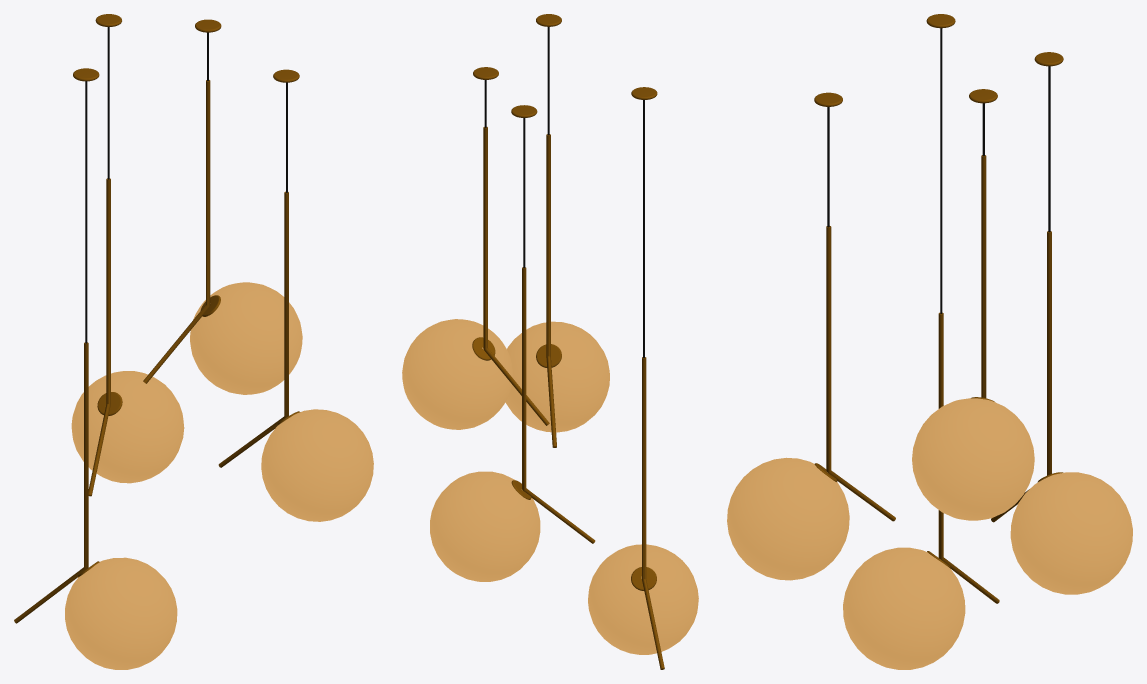
File: lamp fbx.FBX
3 views of the same model, side by side, from view 1: azimuth 30°, elevation 25°; view 2: azimuth 150°, elevation 25°; view 3: azimuth 270°, elevation 25° (orthographic). The views are drawn at different scales.
Visible parts, largest first — view 1: Sphere051, Sphere053, Sphere054, Sphere052, Line1789529824, Line1789529820, Line1789529822, Line1789529818, Line1789529823; view 2: Sphere052, Sphere054, Sphere053, Sphere051, Line1789529818, Line1789529822, Line1789529824, Line1789529820, Line1789529823, Line1789529821; view 3: Sphere054, Sphere052, Sphere053, Sphere051, Line1789529818, Line1789529824, Line1789529820, Line1789529822, Line1789529823.
Boxes of the visible parts, <box> form: Sphere051: <box>261,409,373,521</box>; Sphere053: <box>65,557,177,669</box>; Sphere054: <box>190,282,302,394</box>; Sphere052: <box>71,371,184,483</box>; Line1789529824: <box>143,80,210,383</box>; Line1789529820: <box>88,178,110,496</box>; Line1789529822: <box>14,342,88,623</box>; Line1789529818: <box>218,191,288,467</box>; Line1789529823: <box>85,81,87,343</box>; Sphere052: <box>430,471,540,581</box>; Sphere054: <box>402,319,512,429</box>; Sphere053: <box>588,544,698,654</box>; Sphere051: <box>505,321,609,432</box>; Line1789529818: <box>546,134,556,447</box>; Line1789529822: <box>642,357,664,669</box>; Line1789529824: <box>483,127,549,425</box>; Line1789529820: <box>522,267,595,543</box>; Line1789529823: <box>643,100,644,357</box>; Line1789529821: <box>523,118,525,268</box>; Sphere054: <box>912,398,1034,520</box>; Sphere052: <box>1010,472,1132,594</box>; Sphere053: <box>843,547,965,669</box>; Sphere051: <box>727,457,849,580</box>; Line1789529818: <box>826,226,895,521</box>; Line1789529824: <box>981,155,986,398</box>; Line1789529820: <box>991,231,1051,522</box>; Line1789529822: <box>938,312,999,603</box>; Line1789529823: <box>940,28,942,313</box>.
Bounding box in the file's own units: 30.76 × 63.58 × 36.81.
